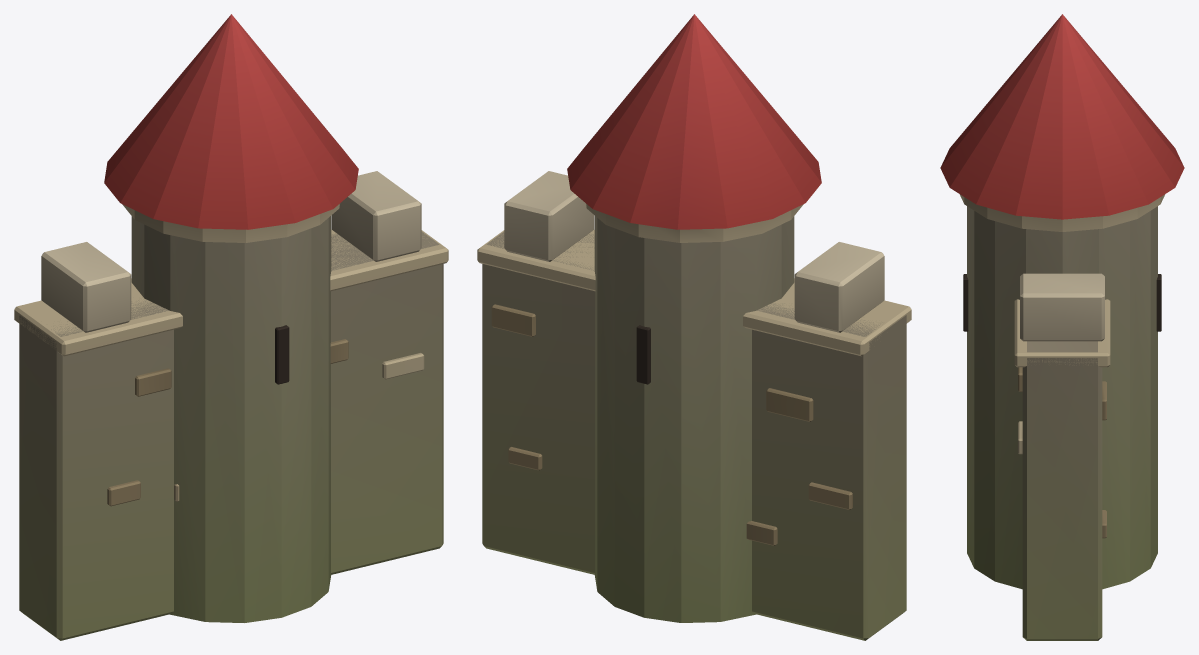
File: muralla-juego.glb
3 renders of one model, left to right at view 1: azimuth 30°, elevation 25°; view 2: azimuth 150°, elevation 25°; view 3: azimuth 270°, elevation 25°, orthographic. The views are drawn at different scales.
Visible parts, largest first — view 1: Torreta, Tramo de muralla; view 2: Torreta, Tramo de muralla; view 3: Torreta, Tramo de muralla.
Part boxes in pixels (bbox=[...]): Torreta: bbox=[104, 14, 358, 622]; Tramo de muralla: bbox=[14, 171, 448, 640]; Torreta: bbox=[567, 14, 821, 622]; Tramo de muralla: bbox=[477, 171, 911, 640]; Torreta: bbox=[940, 14, 1184, 589]; Tramo de muralla: bbox=[1014, 273, 1110, 640].
Size of the model in its own units: 8 by 11.2 by 4.6.
